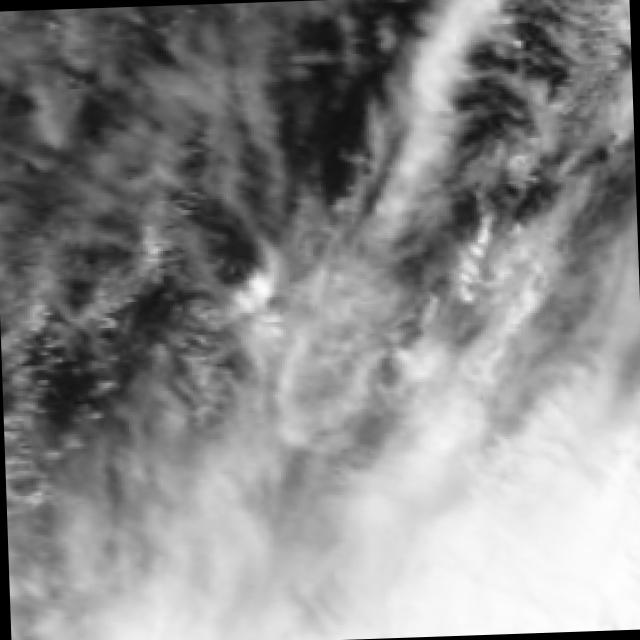CB: (407, 494, 640, 637)
